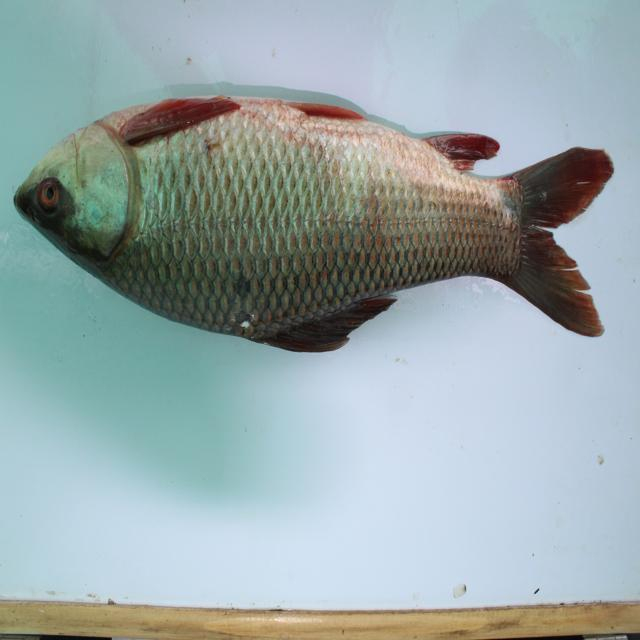Rohu: (22, 89, 620, 345)
